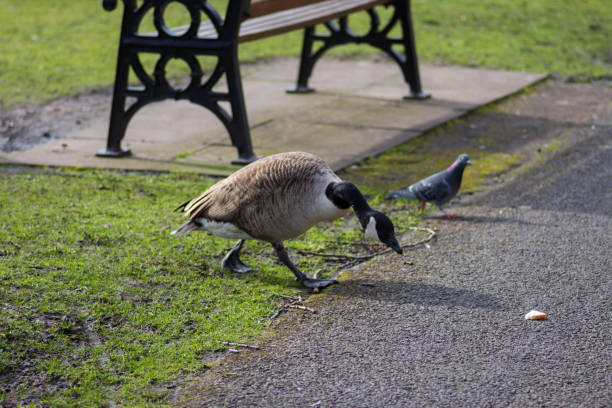goose: (169, 147, 404, 295)
